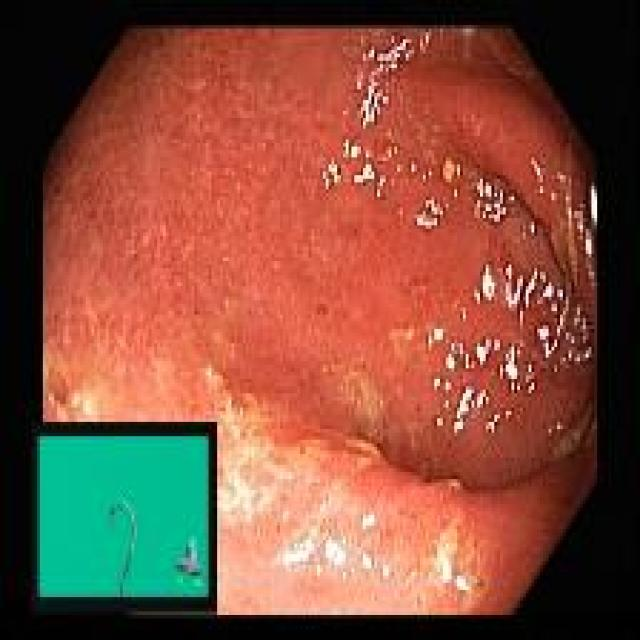ulcerative-colitis: (45, 28, 596, 616)
